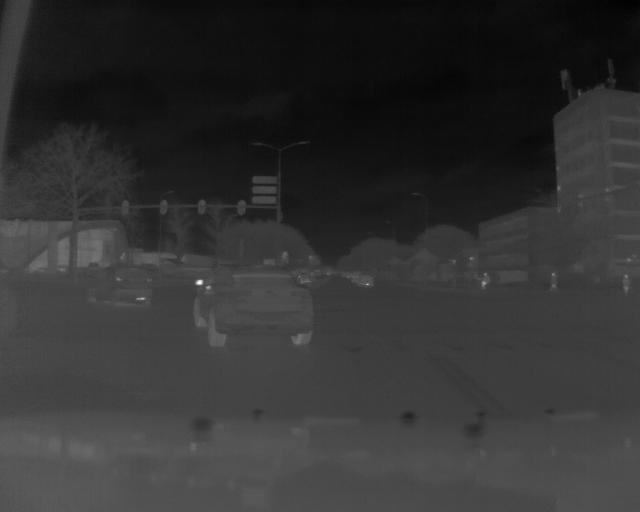car: (191, 271, 316, 346), (89, 266, 155, 306)
person: (480, 267, 493, 291), (621, 273, 632, 297), (548, 269, 558, 294)
